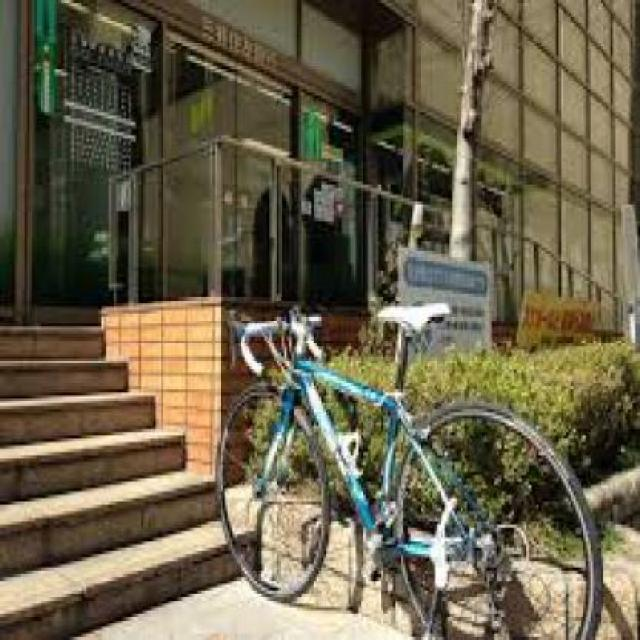bicycle: (208, 281, 634, 638)
